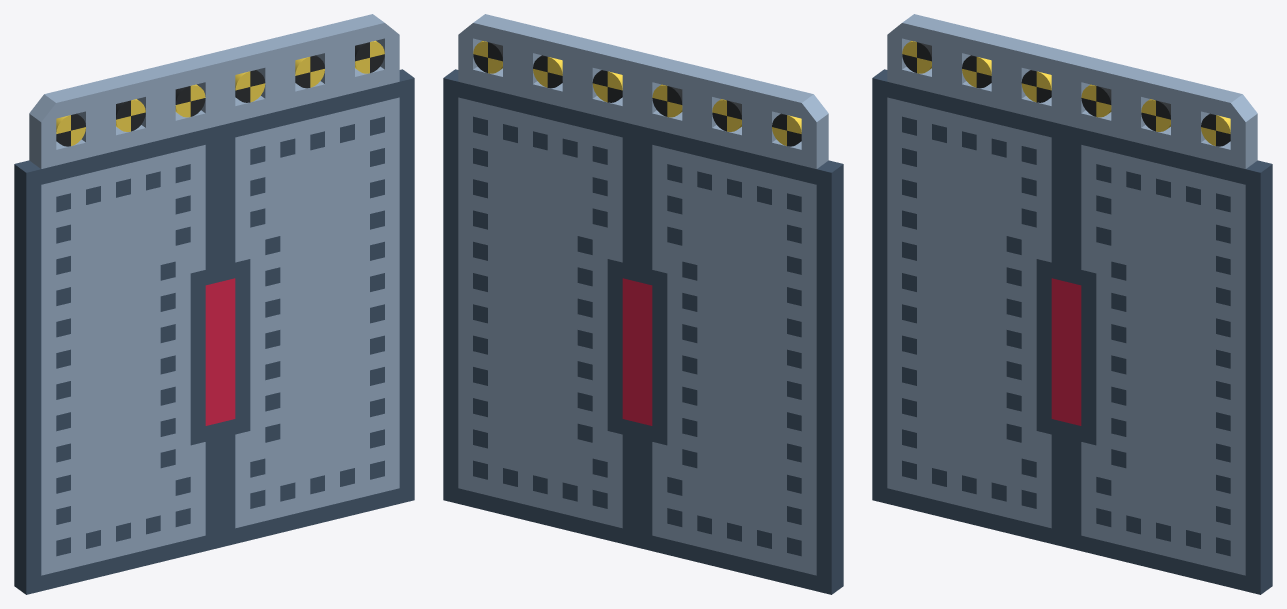
File: DoorClosed.glb
The picture shows the model from 3 angles, left to right: view 1: azimuth 30°, elevation 25°; view 2: azimuth 150°, elevation 25°; view 3: azimuth 330°, elevation 25°; orthographic projection.
Visible parts, largest first — view 1: generated(Clone); view 2: generated(Clone); view 3: generated(Clone).
Part boxes in pixels (x1,y1,x2,y2): generated(Clone): (14,14,414,594); generated(Clone): (443,14,843,594); generated(Clone): (872,14,1272,594).
Bounding box in the file's own units: 26 × 31 × 1.4.
